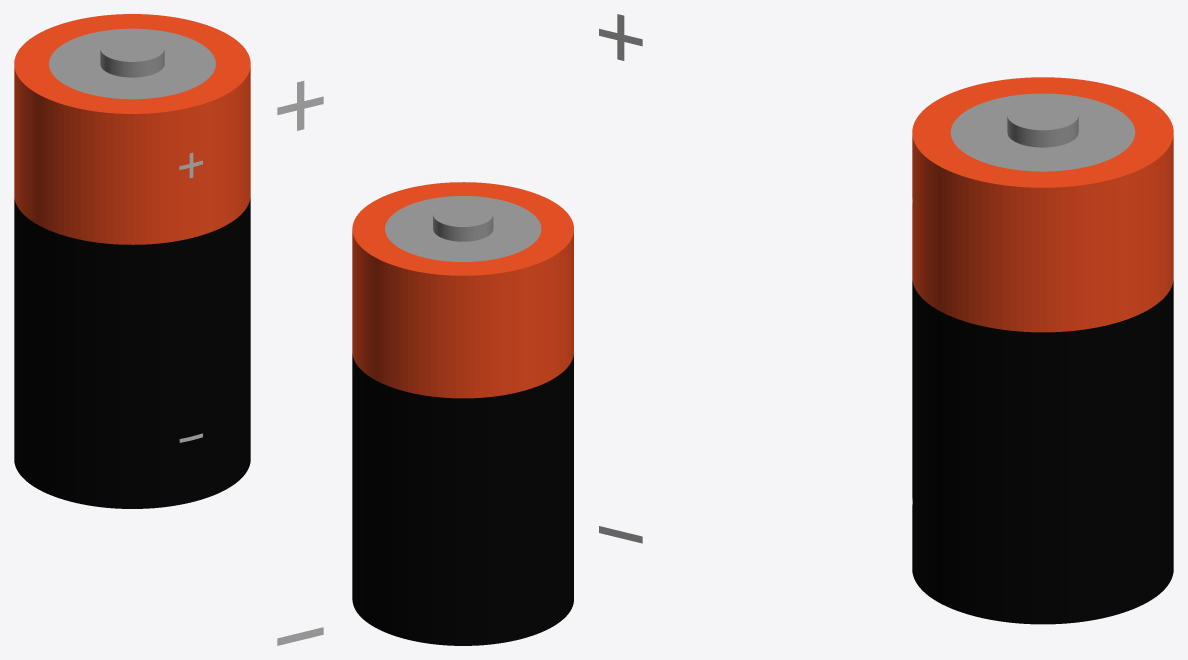
Rendered from battery.obj.
The picture shows the model from 3 angles, left to right: view 1: azimuth 30°, elevation 25°; view 2: azimuth 150°, elevation 25°; view 3: azimuth 270°, elevation 25°; orthographic projection. The views are drawn at different scales.
Parts seen in each view (by area): view 1: Cylinder_Cylinder.002, +_Plane; view 2: Cylinder_Cylinder.002, +_Plane; view 3: Cylinder_Cylinder.002.
Boxes of the visible parts, bbox=[...] form: Cylinder_Cylinder.002: bbox=[14, 14, 250, 508]; +_Plane: bbox=[277, 81, 323, 130]; Cylinder_Cylinder.002: bbox=[352, 182, 573, 645]; +_Plane: bbox=[599, 14, 642, 60]; Cylinder_Cylinder.002: bbox=[912, 77, 1173, 624].
Size of the model in its own units: 1.03 by 2.68 by 1.98.
